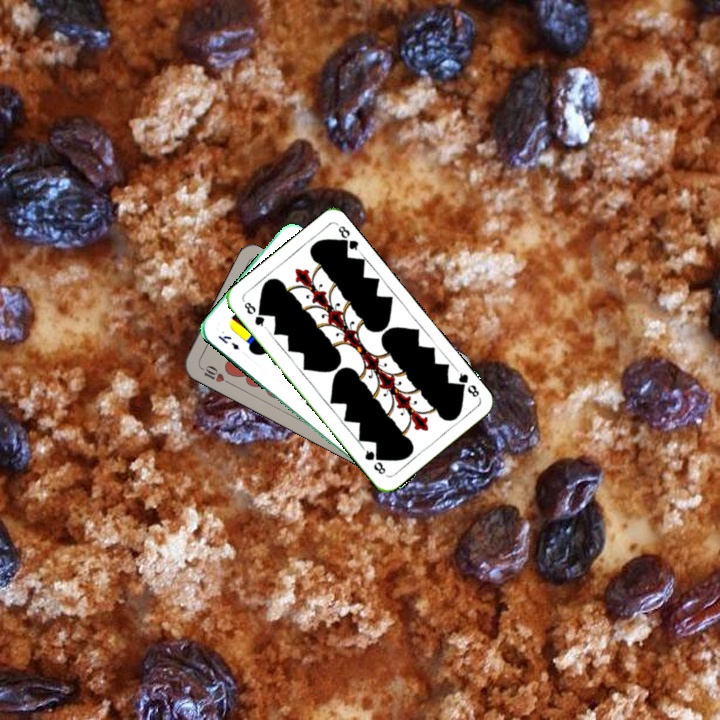EK: (214, 331, 241, 353)
G8: (452, 366, 483, 400), (240, 298, 269, 331)
H10: (196, 361, 233, 387)
